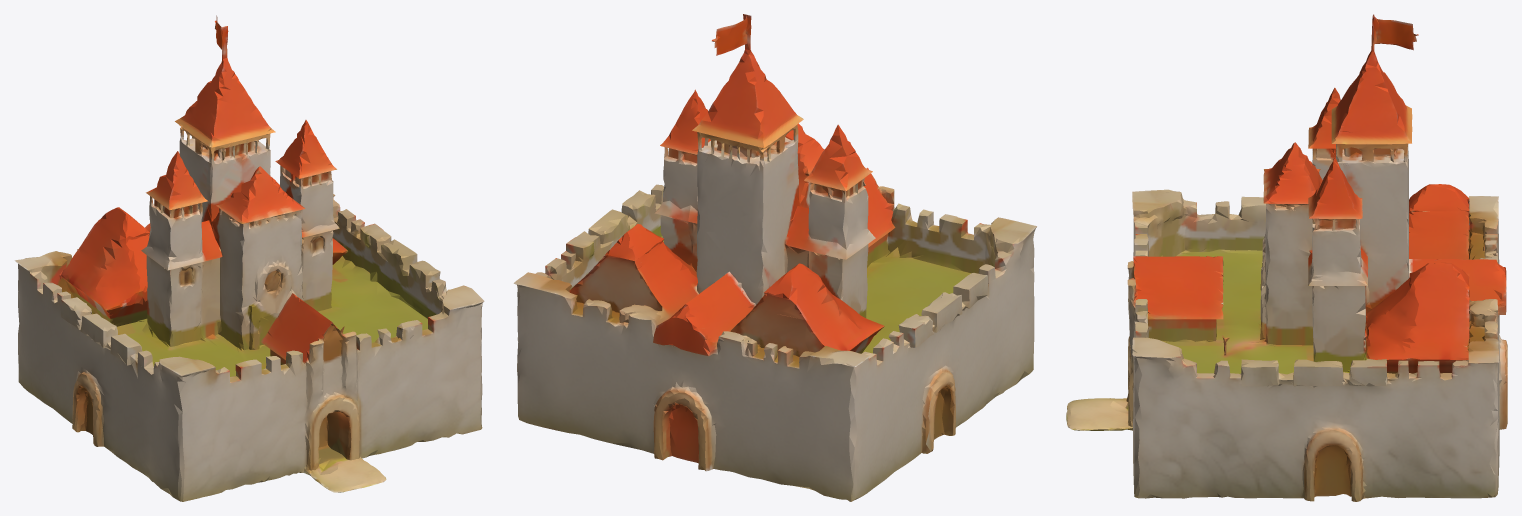
Rendered from human_townhall.glb.
3 views of the same model, side by side, from view 1: azimuth 30°, elevation 25°; view 2: azimuth 150°, elevation 25°; view 3: azimuth 270°, elevation 25° (orthographic). The views are drawn at different scales.
Visible parts, largest first — view 1: human_townhall; view 2: human_townhall; view 3: human_townhall.
Part boxes in pixels (left/top/right/bottom): human_townhall: left=14, top=15, right=484, bottom=501; human_townhall: left=513, top=14, right=1036, bottom=501; human_townhall: left=1066, top=14, right=1507, bottom=501.
Bounding box in the file's own units: 1.75 × 1.89 × 1.89.
1 material, 1 textured.
